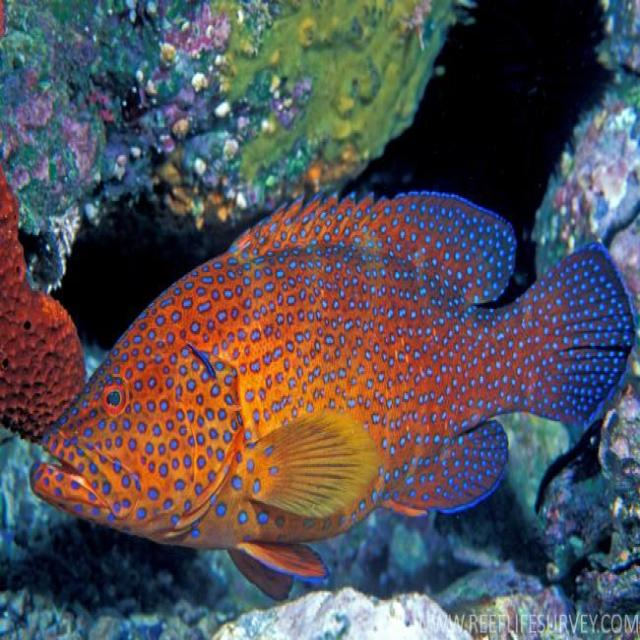ikan: (28, 183, 635, 602)
